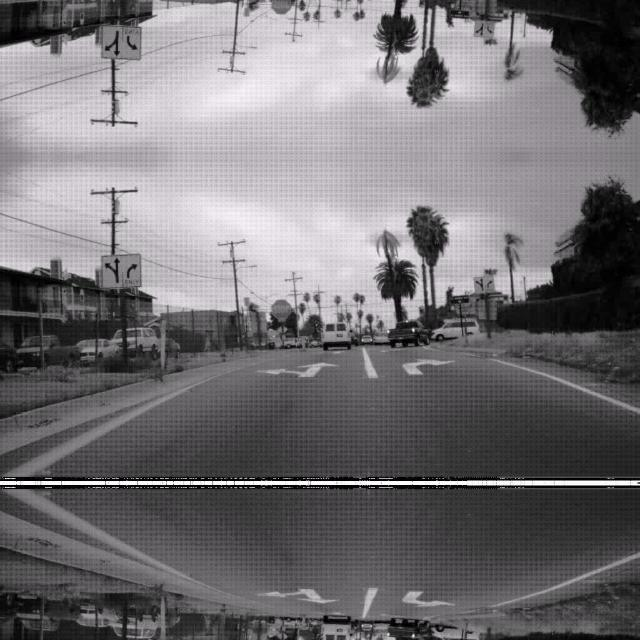stop: (270, 297, 290, 317), (270, 0, 291, 16)
